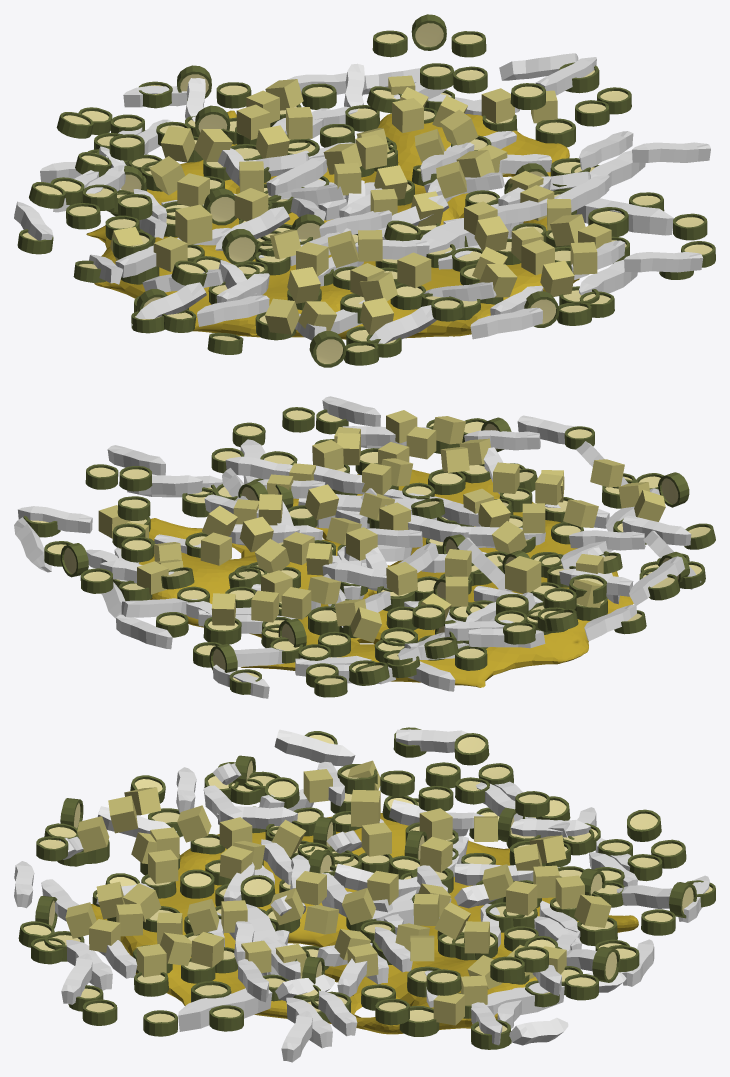
Rendered from lawar.glb.
The picture shows the model from 3 angles, top to bottom: view 1: azimuth 30°, elevation 25°; view 2: azimuth 150°, elevation 25°; view 3: azimuth 270°, elevation 25°; orthographic projection. The views are drawn at different scales.
Visible parts, largest first — view 1: Cube.021, Plane.072, Plane.092, Plane.073, Plane.020, Plane.079, Plane.089, Cube.002, Plane.019, Plane.011, Plane.013, Plane.078 (+119 smaller); view 2: Cube.021, Plane.018, Plane.090, Cube.002, Plane.011, Plane.077, Plane.020, Plane.083, Plane.073, Plane.093, Plane.082, Plane.071 (+113 smaller); view 3: Cube.021, Plane.072, Plane.008, Plane.006, Plane.053, Plane.048, Plane.089, Plane.094, Cube.002, Plane.075, Plane.093, Plane.044 (+125 smaller).
Boxes of the visible parts, <box> form: Cube.021: <box>86,110,579,339</box>; Plane.072: <box>575,198,674,235</box>; Plane.092: <box>632,142,710,162</box>; Plane.073: <box>624,252,703,272</box>; Plane.020: <box>197,295,269,326</box>; Plane.079: <box>470,307,542,339</box>; Plane.089: <box>499,53,578,80</box>; Cube.002: <box>175,204,212,245</box>; Plane.019: <box>132,282,206,325</box>; Plane.011: <box>266,156,327,196</box>; Plane.013: <box>421,203,523,253</box>; Plane.078: <box>369,304,436,343</box>; Cube.021: <box>139,469,633,687</box>; Plane.018: <box>569,530,645,550</box>; Plane.090: <box>18,506,92,533</box>; Cube.002: <box>505,556,541,593</box>; Plane.011: <box>322,562,387,588</box>; Plane.077: <box>464,430,540,450</box>; Plane.020: <box>622,515,691,545</box>; Plane.083: <box>116,614,172,649</box>; Plane.073: <box>322,396,380,426</box>; Plane.093: <box>127,475,202,495</box>; Plane.082: <box>121,598,187,617</box>; Plane.071: <box>225,456,292,479</box>; Cube.021: <box>91,813,638,1034</box>; Plane.072: <box>178,988,272,1031</box>; Plane.008: <box>274,729,355,766</box>; Plane.006: <box>396,729,467,752</box>; Plane.053: <box>471,982,564,1024</box>; Plane.048: <box>510,819,590,837</box>; Plane.089: <box>509,1017,568,1045</box>; Plane.094: <box>286,997,332,1048</box>; Cube.002: <box>351,789,380,826</box>; Plane.075: <box>66,940,112,990</box>; Plane.093: <box>318,990,357,1036</box>; Plane.044: <box>616,885,672,908</box>.
Size of the model in its own units: 0.2047 by 0.0316 by 0.1981.
